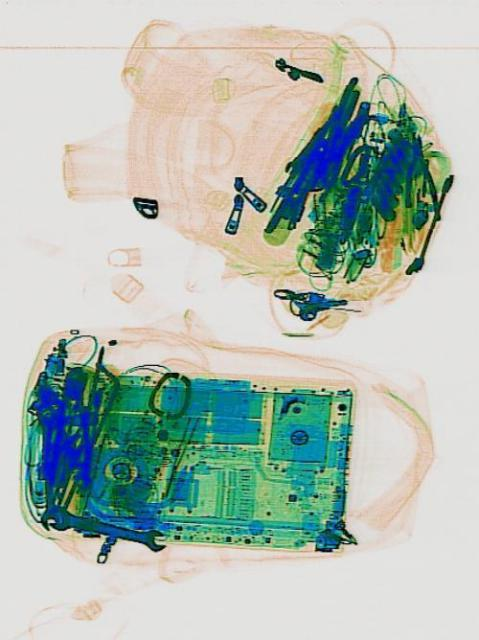Wrench: (48, 503, 165, 551), (32, 400, 59, 528)
